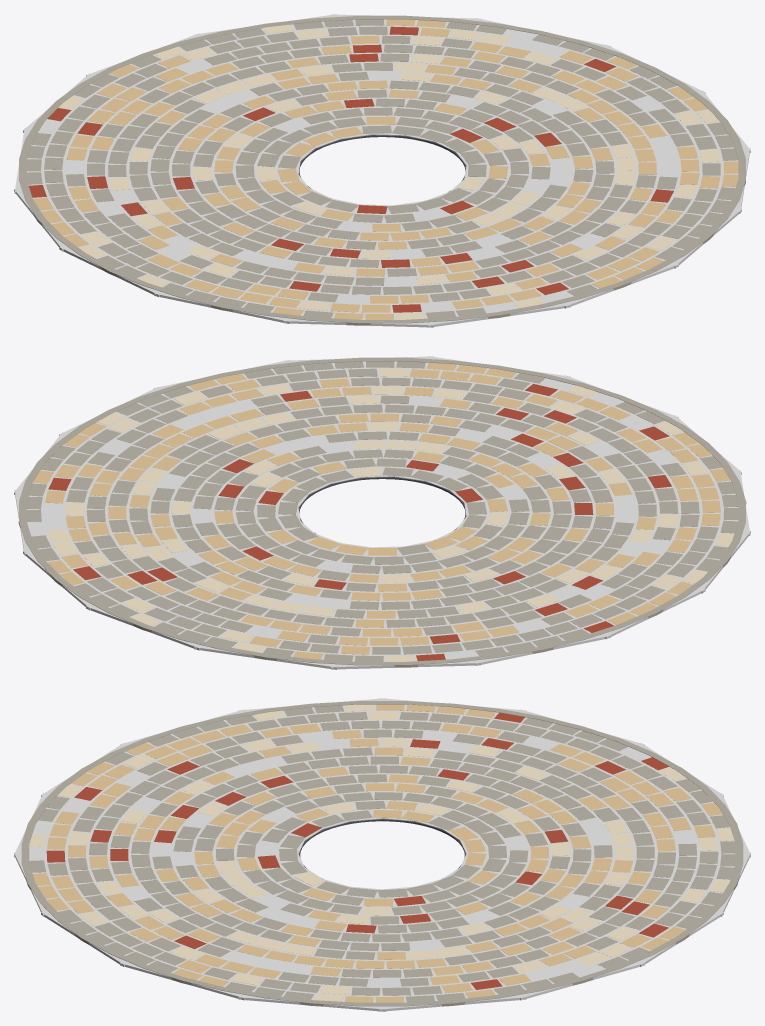
Rendered from env_cobble_disc_a.glb.
3 renders of one model, top to bottom at view 1: azimuth 30°, elevation 25°; view 2: azimuth 150°, elevation 25°; view 3: azimuth 270°, elevation 25°, orthographic.
Visible parts, largest first — view 1: env_cobble_disc_a, COL_env_cobble_disc_a_12, COL_env_cobble_disc_a_14, COL_env_cobble_disc_a_10, COL_env_cobble_disc_a_1, COL_env_cobble_disc_a_11, COL_env_cobble_disc_a_7, COL_env_cobble_disc_a_15, COL_env_cobble_disc_a_5, COL_env_cobble_disc_a_2, COL_env_cobble_disc_a_8, COL_env_cobble_disc_a_9 (+5 smaller); view 2: env_cobble_disc_a, COL_env_cobble_disc_a_12, COL_env_cobble_disc_a_2, COL_env_cobble_disc_a_9, COL_env_cobble_disc_a_6, COL_env_cobble_disc_a_11, COL_env_cobble_disc_a_16, COL_env_cobble_disc_a_5, COL_env_cobble_disc_a_14, COL_env_cobble_disc_a_13, COL_env_cobble_disc_a_4, COL_env_cobble_disc_a_8 (+5 smaller); view 3: env_cobble_disc_a, COL_env_cobble_disc_a_1, COL_env_cobble_disc_a_14, COL_env_cobble_disc_a_10, COL_env_cobble_disc_a_2, COL_env_cobble_disc_a_5, COL_env_cobble_disc_a_13, COL_env_cobble_disc_a_6, COL_env_cobble_disc_a_9, COL_env_cobble_disc_a_16, COL_env_cobble_disc_a_4, COL_env_cobble_disc_a_11 (+5 smaller).
Part boxes in pixels (<box>): env_cobble_disc_a: <box>19,15,745,325</box>; COL_env_cobble_disc_a_12: <box>344,194,570,327</box>; COL_env_cobble_disc_a_14: <box>424,160,741,268</box>; COL_env_cobble_disc_a_10: <box>154,189,391,323</box>; COL_env_cobble_disc_a_1: <box>396,44,705,161</box>; COL_env_cobble_disc_a_11: <box>283,204,450,327</box>; COL_env_cobble_disc_a_7: <box>14,128,303,198</box>; COL_env_cobble_disc_a_15: <box>464,140,750,213</box>; COL_env_cobble_disc_a_5: <box>86,33,375,148</box>; COL_env_cobble_disc_a_2: <box>360,18,610,141</box>; COL_env_cobble_disc_a_8: <box>14,163,326,251</box>; COL_env_cobble_disc_a_9: <box>59,188,355,297</box>; env_cobble_disc_a: <box>18,357,746,667</box>; COL_env_cobble_disc_a_12: <box>388,375,678,497</box>; COL_env_cobble_disc_a_2: <box>14,483,300,555</box>; COL_env_cobble_disc_a_9: <box>447,495,750,593</box>; COL_env_cobble_disc_a_6: <box>313,545,481,669</box>; COL_env_cobble_disc_a_11: <box>428,415,741,521</box>; COL_env_cobble_disc_a_16: <box>59,386,363,509</box>; COL_env_cobble_disc_a_5: <box>194,536,411,669</box>; COL_env_cobble_disc_a_14: <box>283,356,450,477</box>; COL_env_cobble_disc_a_13: <box>342,356,570,487</box>; COL_env_cobble_disc_a_4: <box>86,532,376,650</box>; COL_env_cobble_disc_a_8: <box>425,530,705,639</box>; env_cobble_disc_a: <box>21,701,743,1006</box>; COL_env_cobble_disc_a_1: <box>328,882,526,1011</box>; COL_env_cobble_disc_a_14: <box>41,847,348,966</box>; COL_env_cobble_disc_a_10: <box>120,709,390,839</box>; COL_env_cobble_disc_a_2: <box>390,867,644,1000</box>; COL_env_cobble_disc_a_5: <box>450,793,750,875</box>; COL_env_cobble_disc_a_13: <box>14,830,314,916</box>; COL_env_cobble_disc_a_6: <box>414,743,723,859</box>; COL_env_cobble_disc_a_9: <box>238,698,434,821</box>; COL_env_cobble_disc_a_16: <box>238,886,415,1011</box>; COL_env_cobble_disc_a_4: <box>460,839,750,916</box>; COL_env_cobble_disc_a_11: <box>41,743,341,840</box>.
Size of the model in its own units: 28.59 by 0.1178 by 28.59.
